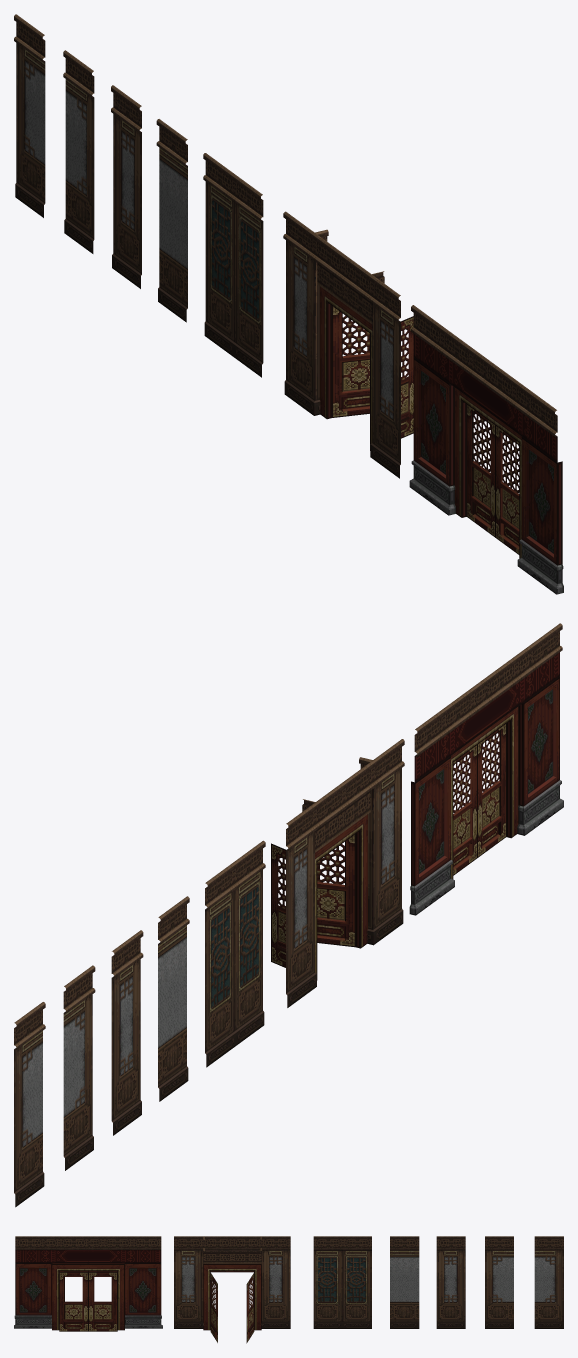
Rendered from EnvMdrMD_Desert_Castle_A_Wall_Door_A.FBX.
3 renders of one model, top to bottom at view 1: azimuth 30°, elevation 25°; view 2: azimuth 150°, elevation 25°; view 3: azimuth 270°, elevation 25°, orthographic. The views are drawn at different scales.
Parts seen in each view (by area): view 1: EnvMdrMD_Desert_Castle_A_Wall_Door_A, EnvMdrMD_Desert_Castle_A_Wall_Door_B, EnvMdrMD_Desert_Castle_A_Wall_Window_A, EnvMdrMD_Desert_Castle_A_Wall_RS, EnvMdrMD_Desert_Castle_A_Wall_LS, EnvMdrMD_Desert_Castle_A_Wall_Loop_A, EnvMdrMD_Desert_Castle_A_Wall_Loop_B; view 2: EnvMdrMD_Desert_Castle_A_Wall_Door_A, EnvMdrMD_Desert_Castle_A_Wall_Door_B, EnvMdrMD_Desert_Castle_A_Wall_Window_A, EnvMdrMD_Desert_Castle_A_Wall_Loop_B, EnvMdrMD_Desert_Castle_A_Wall_RS, EnvMdrMD_Desert_Castle_A_Wall_Loop_A, EnvMdrMD_Desert_Castle_A_Wall_LS; view 3: EnvMdrMD_Desert_Castle_A_Wall_Door_A, EnvMdrMD_Desert_Castle_A_Wall_Door_B, EnvMdrMD_Desert_Castle_A_Wall_Window_A, EnvMdrMD_Desert_Castle_A_Wall_Loop_A, EnvMdrMD_Desert_Castle_A_Wall_Loop_B, EnvMdrMD_Desert_Castle_A_Wall_LS, EnvMdrMD_Desert_Castle_A_Wall_RS.
Boxes of the visible parts, x1,y1,x2,y2 form: EnvMdrMD_Desert_Castle_A_Wall_Door_A: (409, 305, 563, 594); EnvMdrMD_Desert_Castle_A_Wall_Door_B: (283, 211, 413, 478); EnvMdrMD_Desert_Castle_A_Wall_Window_A: (203, 153, 263, 377); EnvMdrMD_Desert_Castle_A_Wall_RS: (63, 50, 94, 253); EnvMdrMD_Desert_Castle_A_Wall_LS: (14, 14, 45, 217); EnvMdrMD_Desert_Castle_A_Wall_Loop_A: (156, 119, 187, 322); EnvMdrMD_Desert_Castle_A_Wall_Loop_B: (111, 85, 141, 288); EnvMdrMD_Desert_Castle_A_Wall_Door_A: (409, 623, 563, 915); EnvMdrMD_Desert_Castle_A_Wall_Door_B: (271, 739, 404, 1007); EnvMdrMD_Desert_Castle_A_Wall_Window_A: (205, 840, 265, 1067); EnvMdrMD_Desert_Castle_A_Wall_Loop_B: (111, 930, 143, 1135); EnvMdrMD_Desert_Castle_A_Wall_RS: (63, 965, 95, 1170); EnvMdrMD_Desert_Castle_A_Wall_Loop_A: (158, 896, 189, 1101); EnvMdrMD_Desert_Castle_A_Wall_LS: (14, 1002, 45, 1207); EnvMdrMD_Desert_Castle_A_Wall_Door_A: (14, 1236, 162, 1331); EnvMdrMD_Desert_Castle_A_Wall_Door_B: (174, 1236, 290, 1343); EnvMdrMD_Desert_Castle_A_Wall_Window_A: (313, 1236, 371, 1328); EnvMdrMD_Desert_Castle_A_Wall_Loop_A: (390, 1236, 419, 1328); EnvMdrMD_Desert_Castle_A_Wall_Loop_B: (436, 1236, 465, 1328); EnvMdrMD_Desert_Castle_A_Wall_LS: (534, 1236, 563, 1328); EnvMdrMD_Desert_Castle_A_Wall_RS: (485, 1236, 513, 1328).
Bounding box in the file's own units: 243 × 700 × 3769.
